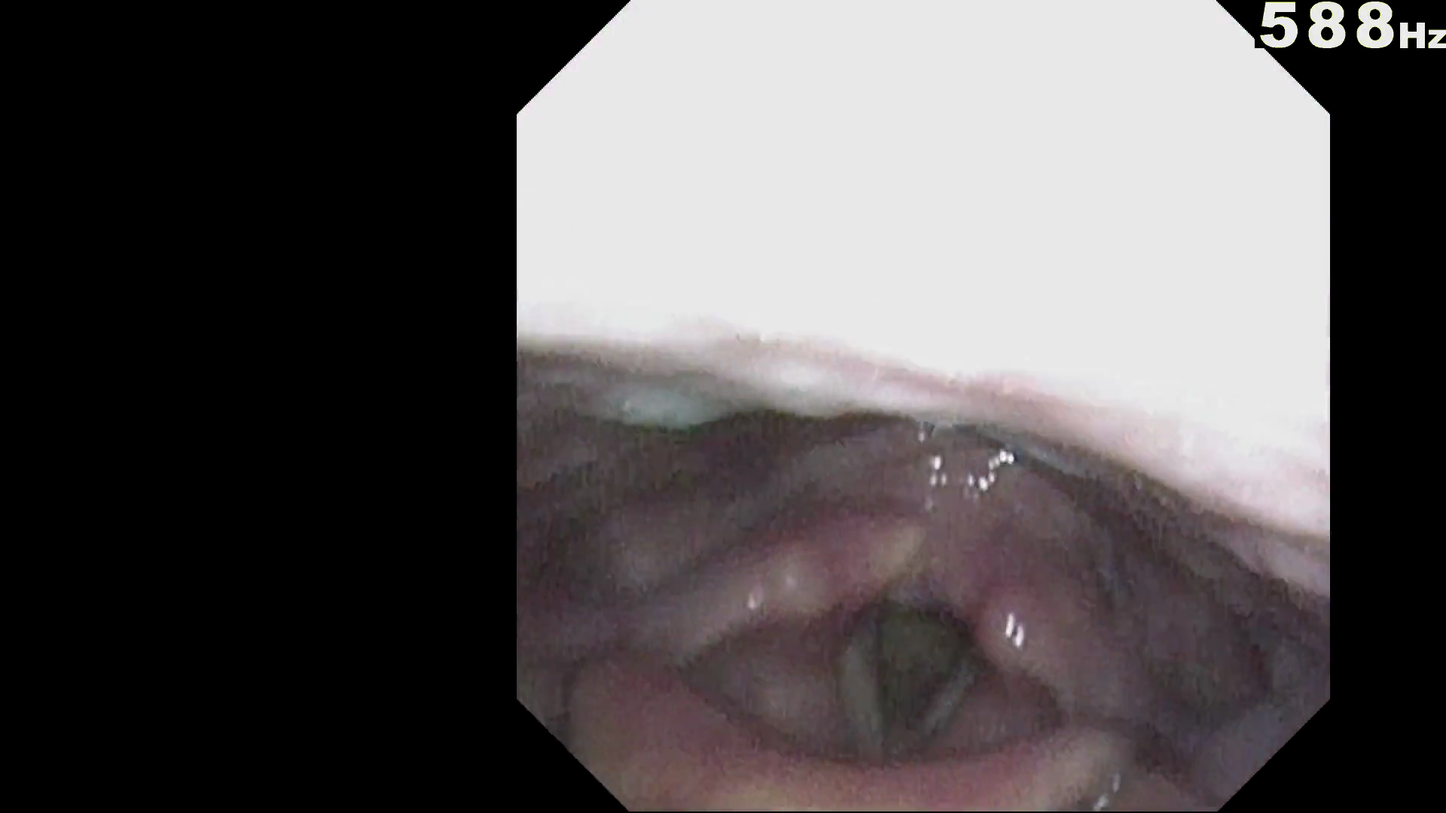epiglottis: (596, 564, 1137, 754)
trachea: (852, 562, 976, 716)
